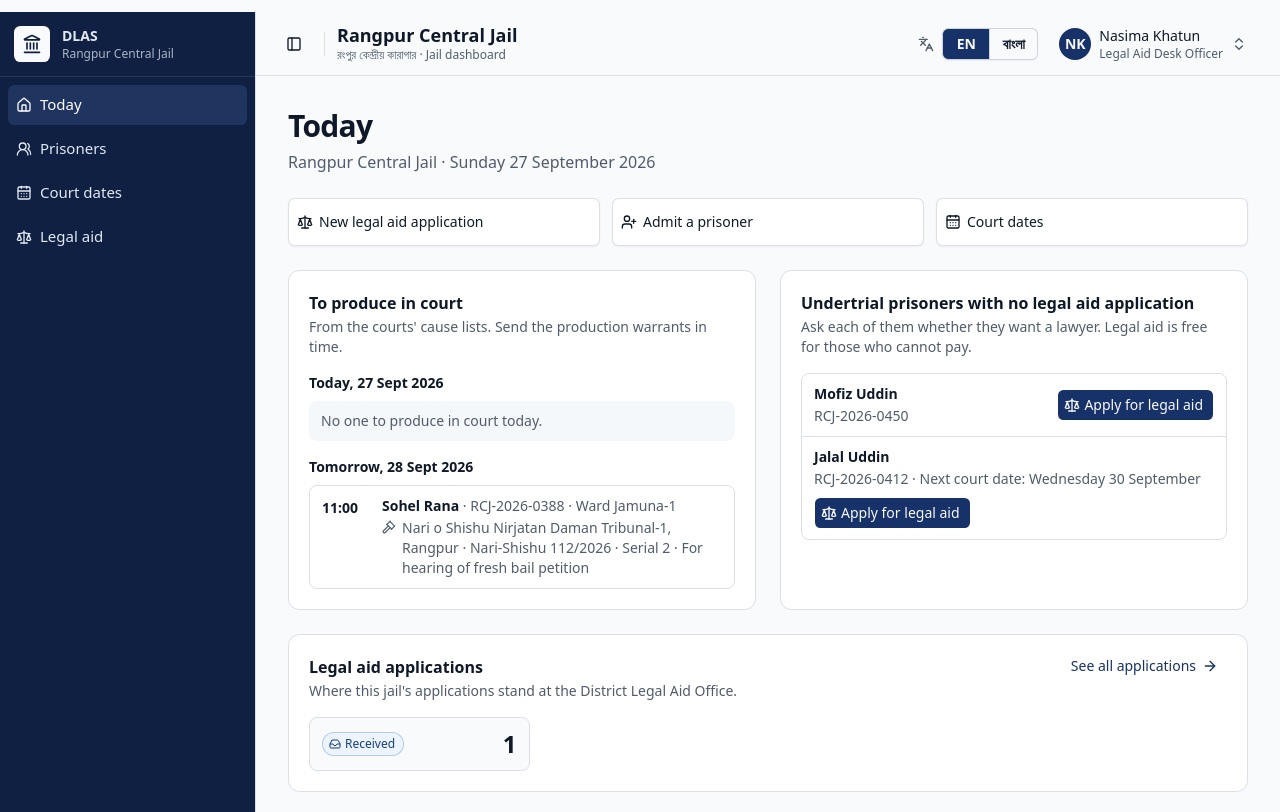
Scenario: Today › shows who goes to court, who has no application yet, and where applications stand
Expected: the text "No one to produce in court today." is shown, [309, 401, 735, 441]
Expected: the element "Tomorrow" shows "Sohel Rana", [382, 496, 459, 515]
What coordinates should you click on to do the following:
click the link with aria-label "Apply for legal aid: Jalal Uddin"
I would click on:
 (892, 513)
Its box is [814, 497, 971, 529].
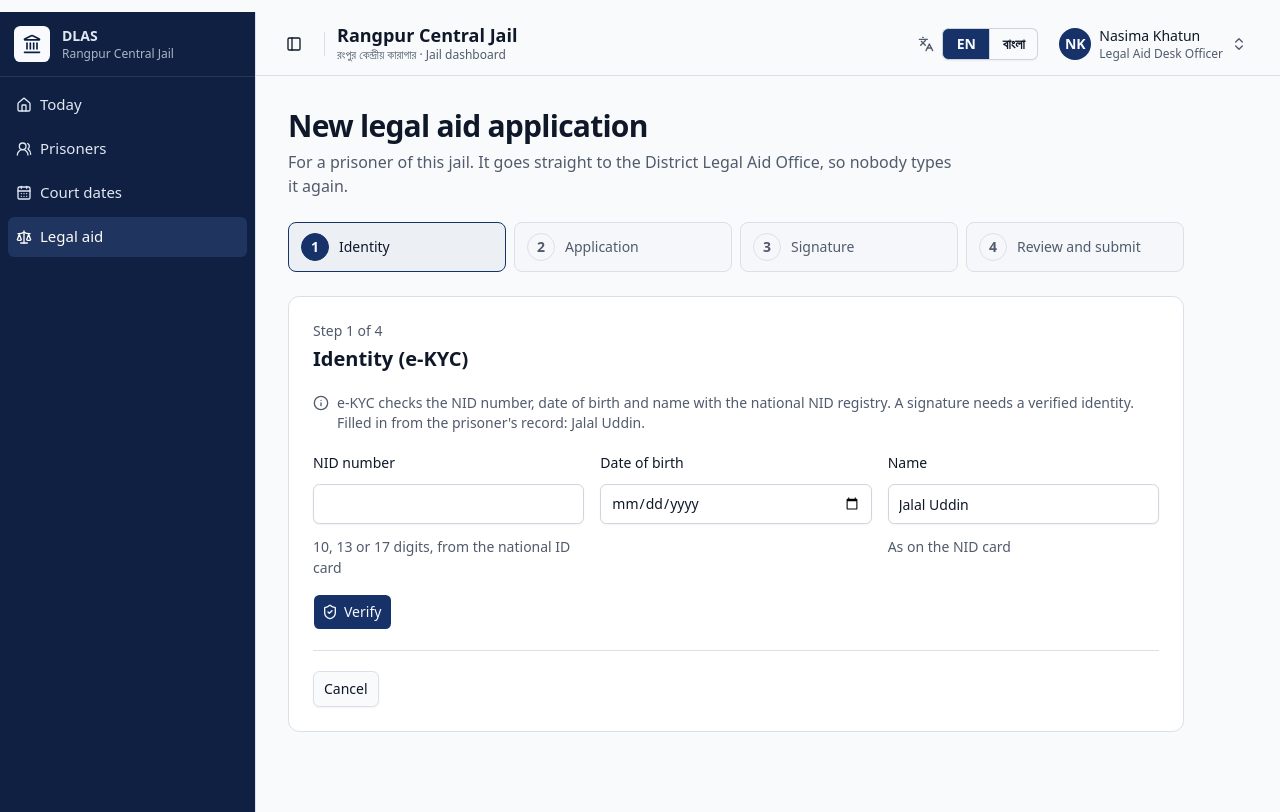
Expected: the heading "New legal aid application" is shown, [288, 105, 648, 146]
Expected: the field labelled "Name" holds "Jalal Uddin", [888, 484, 1159, 524]
